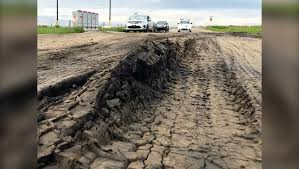pothole: (38, 76, 157, 169), (160, 79, 262, 169), (117, 34, 246, 74)
